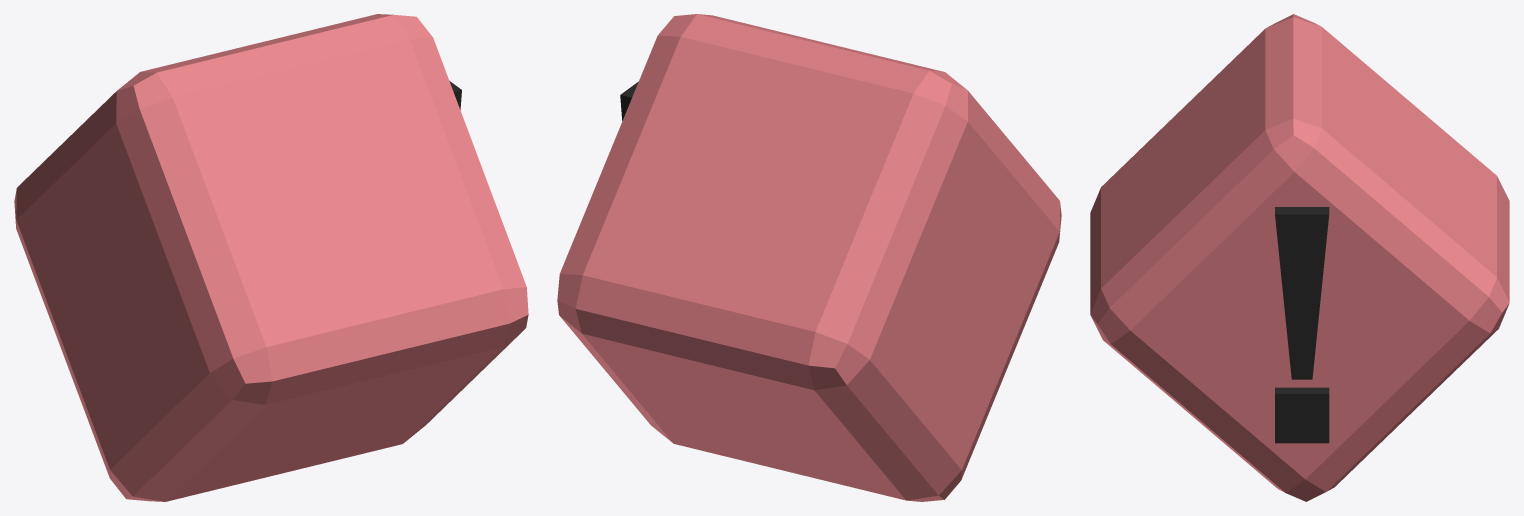
Rendered from Item Caja misteriosa.fbx.
3 renders of one model, left to right at view 1: azimuth 30°, elevation 25°; view 2: azimuth 150°, elevation 25°; view 3: azimuth 270°, elevation 25°, orthographic. The views are drawn at different scales.
Visible parts, largest first — view 1: Cubito sorpresa; view 2: Cubito sorpresa; view 3: Cubito sorpresa.
Part boxes in pixels (x1,y1,x2,y2): Cubito sorpresa: [14, 14, 528, 501]; Cubito sorpresa: [557, 14, 1061, 501]; Cubito sorpresa: [1090, 14, 1509, 501].
Bounding box in the file's own units: 211 × 262 × 262.
